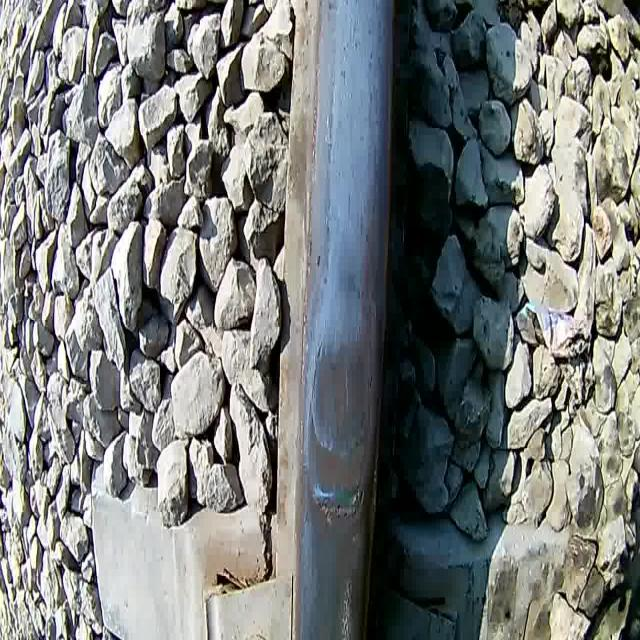Squats: (292, 317, 389, 588)
